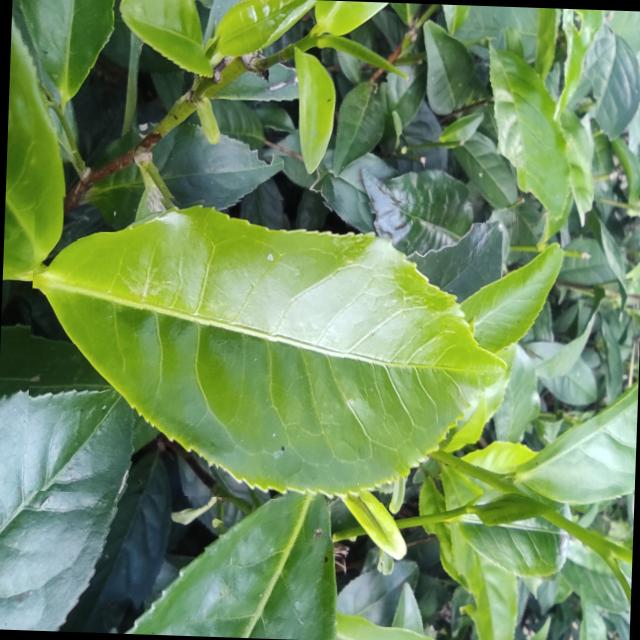Category B(2-4 days): (24, 188, 518, 507)
